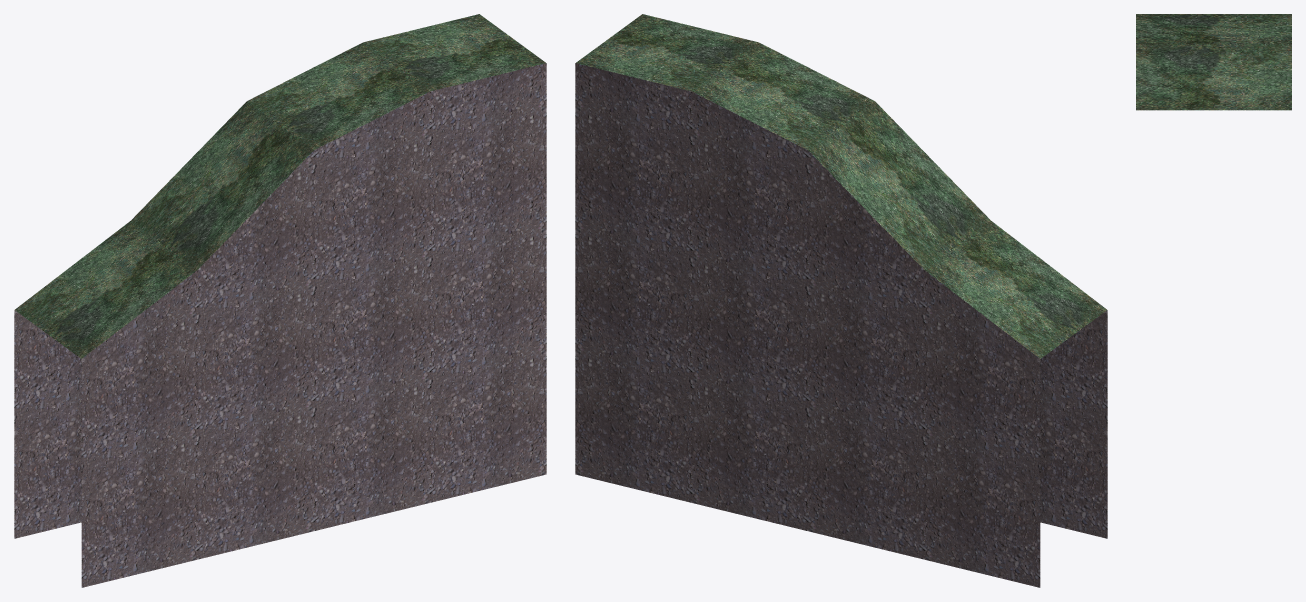
Rendered from grass_hill.fbx.
3 renders of one model, left to right at view 1: azimuth 30°, elevation 25°; view 2: azimuth 150°, elevation 25°; view 3: azimuth 270°, elevation 25°, orthographic. The views are drawn at different scales.
Visible parts, largest first — view 1: grass_slope; view 2: grass_slope; view 3: grass_slope.
Boxes of the visible parts, left/top/right/bottom form: grass_slope: left=14, top=14, right=546, bottom=587; grass_slope: left=575, top=14, right=1107, bottom=587; grass_slope: left=1136, top=14, right=1291, bottom=110.
Bounding box in the file's own units: 3200 × 2705 × 800.
